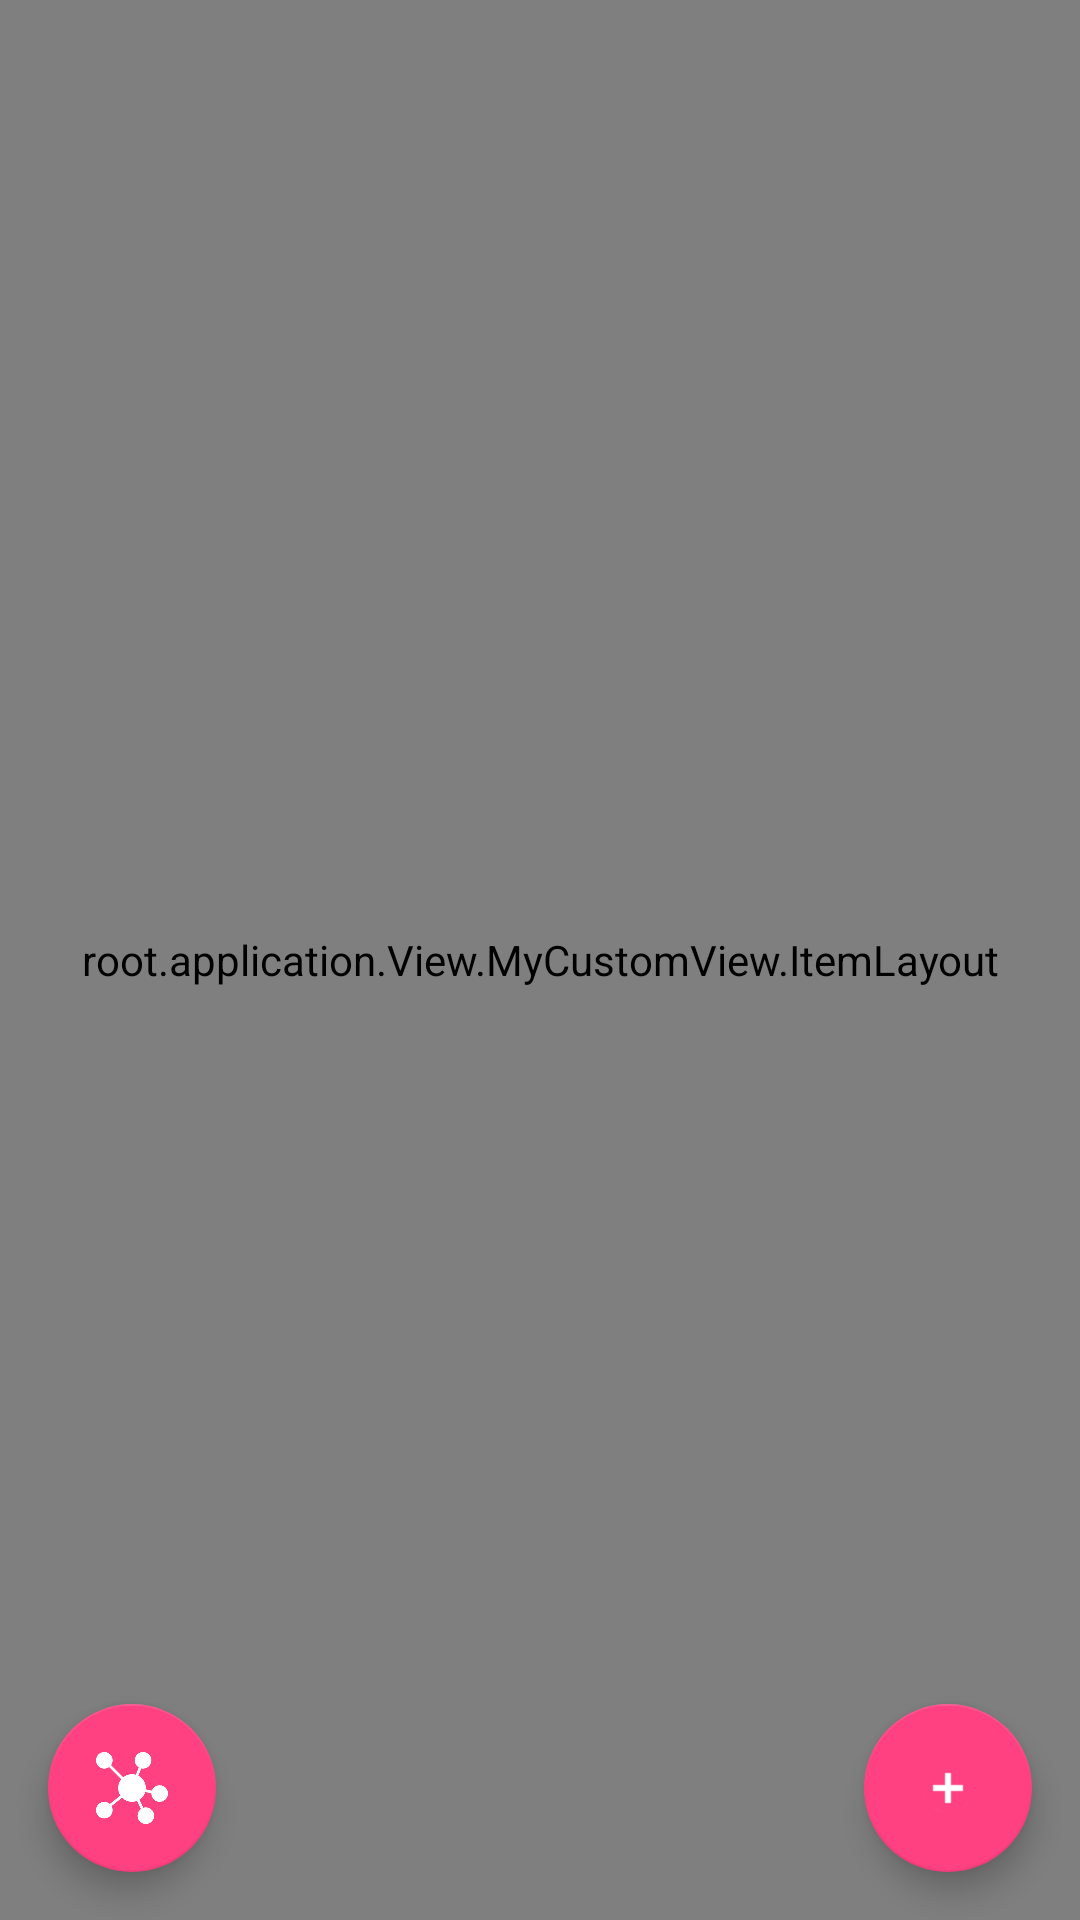

Point at icon controls on the screen. Image size 1080 × 1920, points as (x,y).
add: (948,1788)
full mindmap: (132,1788)
